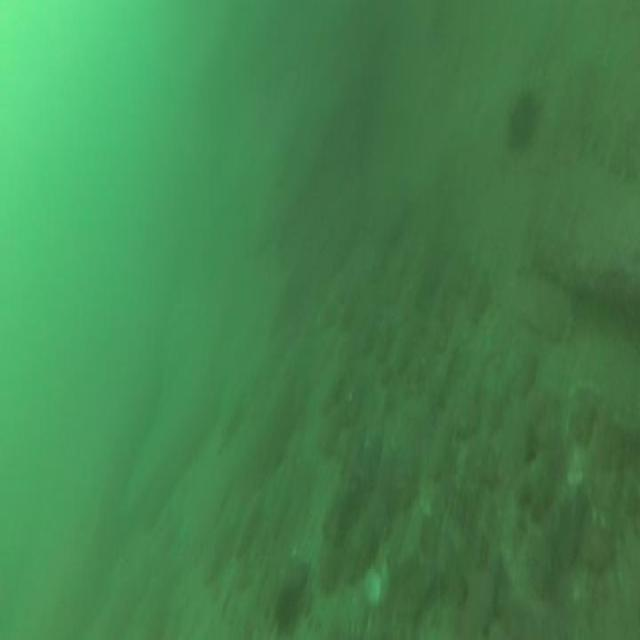echinus: (505, 87, 545, 153), (271, 577, 305, 640)
holothurian: (584, 94, 640, 186)
